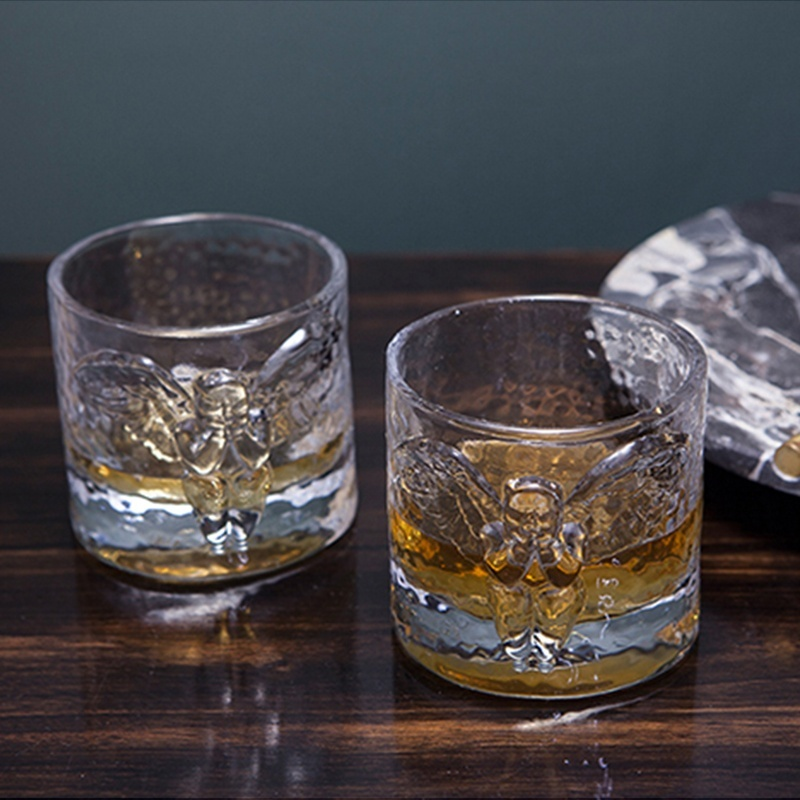whiskey: (384, 314, 710, 691), (44, 214, 350, 581)
